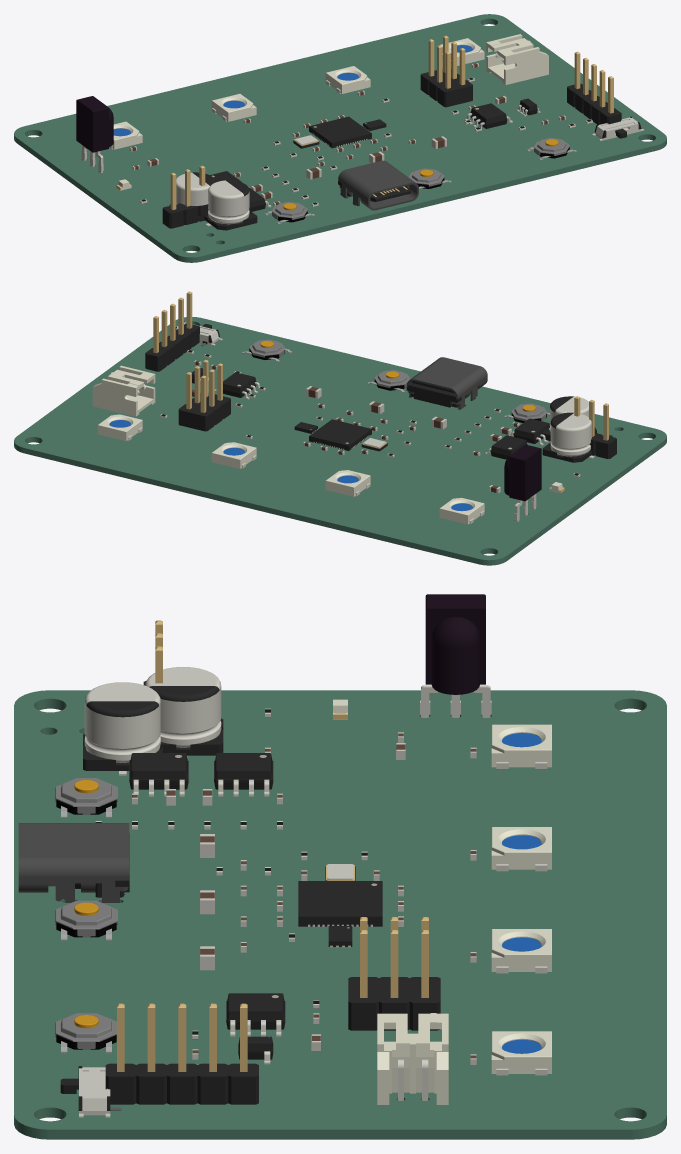
Rendered from board.glb.
3 views of the same model, one above another, from view 1: azimuth 30°, elevation 25°; view 2: azimuth 150°, elevation 25°; view 3: azimuth 270°, elevation 25° (orthographic). The views are drawn at different scales.
Parts seen in each view (by area): view 1: =>[0:1:1:44], =>[0:1:1:27] (×4), =>[0:1:1:23] (×2), =>[0:1:1:25], =>[0:1:1:13], =>[0:1:1:19], =>[0:1:1:39], =>[0:1:1:35], =>[0:1:1:29] (×3), =>[0:1:1:15], =>[0:1:1:11], =>[0:1:1:21] (+1 smaller); view 2: =>[0:1:1:44], =>[0:1:1:27] (×4), =>[0:1:1:25], =>[0:1:1:23] (×2), =>[0:1:1:13], =>[0:1:1:19], =>[0:1:1:39], =>[0:1:1:35], =>[0:1:1:21] (×3), =>[0:1:1:29] (×3), =>[0:1:1:11], =>[0:1:1:15]; view 3: =>[0:1:1:44], =>[0:1:1:23] (×2), =>[0:1:1:27] (×4), =>[0:1:1:39], =>[0:1:1:25], =>[0:1:1:35], =>[0:1:1:21] (×3), =>[0:1:1:29] (×3), =>[0:1:1:19], =>[0:1:1:13], =>[0:1:1:11], =>[0:1:1:33].
Part boxes in pixels (bbox=[...]): =>[0:1:1:44]: bbox=[14, 14, 666, 262]; =>[0:1:1:27] (×4): bbox=[109, 38, 484, 149]; =>[0:1:1:23] (×2): bbox=[169, 172, 257, 230]; =>[0:1:1:25]: bbox=[338, 160, 418, 210]; =>[0:1:1:13]: bbox=[420, 35, 472, 107]; =>[0:1:1:19]: bbox=[486, 34, 548, 84]; =>[0:1:1:39]: bbox=[567, 51, 621, 124]; =>[0:1:1:35]: bbox=[76, 96, 113, 172]; =>[0:1:1:29] (×3): bbox=[265, 138, 576, 224]; =>[0:1:1:15]: bbox=[162, 165, 208, 228]; =>[0:1:1:11]: bbox=[309, 116, 371, 148]; =>[0:1:1:21]: bbox=[464, 103, 512, 128]; =>[0:1:1:44]: bbox=[14, 317, 666, 565]; =>[0:1:1:27] (×4): bbox=[97, 414, 484, 524]; =>[0:1:1:25]: bbox=[406, 357, 487, 409]; =>[0:1:1:23] (×2): bbox=[542, 396, 596, 462]; =>[0:1:1:13]: bbox=[178, 360, 230, 431]; =>[0:1:1:19]: bbox=[92, 365, 155, 416]; =>[0:1:1:39]: bbox=[145, 291, 199, 371]; =>[0:1:1:35]: bbox=[504, 444, 541, 521]; =>[0:1:1:21] (×3): bbox=[214, 372, 549, 459]; =>[0:1:1:29] (×3): bbox=[242, 339, 549, 422]; =>[0:1:1:11]: bbox=[309, 419, 371, 450]; =>[0:1:1:15]: bbox=[574, 396, 616, 458]; =>[0:1:1:44]: bbox=[14, 690, 666, 1139]; =>[0:1:1:23] (×2): bbox=[83, 667, 223, 775]; =>[0:1:1:27] (×4): bbox=[491, 724, 551, 1075]; =>[0:1:1:39]: bbox=[105, 1003, 258, 1104]; =>[0:1:1:25]: bbox=[18, 823, 129, 902]; =>[0:1:1:35]: bbox=[420, 594, 491, 717]; =>[0:1:1:21] (×3): bbox=[129, 753, 285, 1036]; =>[0:1:1:29] (×3): bbox=[55, 778, 117, 1053]; =>[0:1:1:19]: bbox=[377, 1013, 448, 1104]; =>[0:1:1:13]: bbox=[348, 917, 440, 1030]; =>[0:1:1:11]: bbox=[298, 881, 382, 926]; =>[0:1:1:33]: bbox=[60, 1066, 121, 1117].
Size of the model in its own units: 0.086 by 0.0138 by 0.054.
